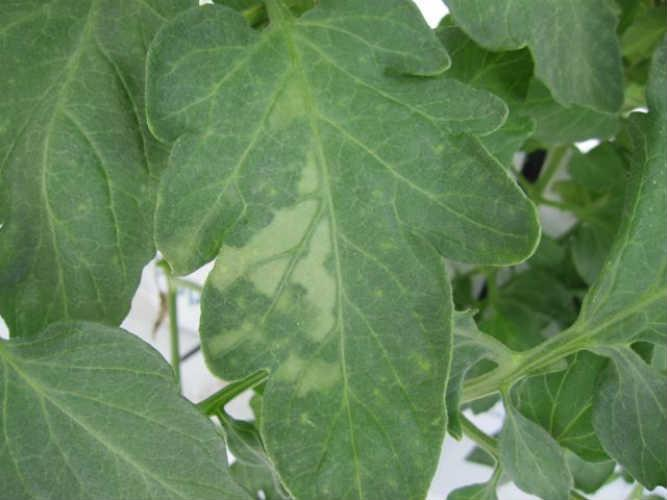Tomato leaf late blight: (142, 17, 539, 498)
